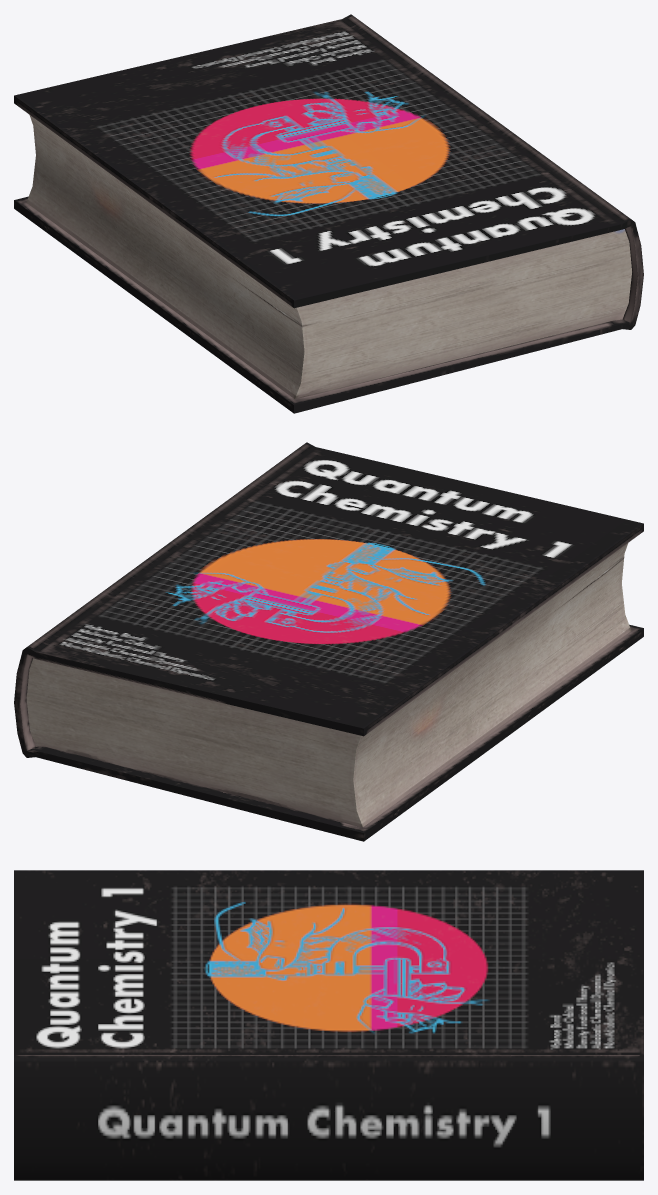
The model's file is SM_Books_03b.fbx.
The picture shows the model from 3 angles, top to bottom: view 1: azimuth 30°, elevation 25°; view 2: azimuth 150°, elevation 25°; view 3: azimuth 270°, elevation 25°; orthographic projection. The views are drawn at different scales.
Visible parts, largest first — view 1: SM_Books_03b_LOD0; view 2: SM_Books_03b_LOD0; view 3: SM_Books_03b_LOD0.
Boxes of the visible parts, box(x1,y1,x2,y2) form: SM_Books_03b_LOD0: box(14, 14, 643, 413); SM_Books_03b_LOD0: box(14, 442, 643, 841); SM_Books_03b_LOD0: box(14, 870, 643, 1180).
Size of the model in its own units: 19.07 by 26.45 by 5.89.
1 material, 1 textured.
